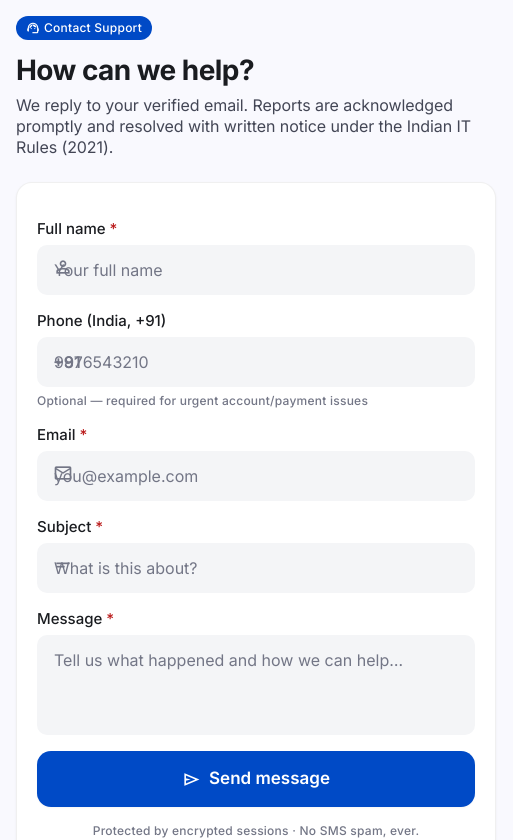
Scenario: T4 — required-field validation › shows errors for missing name, email, subject, message
The width and height of the screenshot is (513, 840).
Click the button "Send message" at (256, 779), box 37,751 -> 475,807
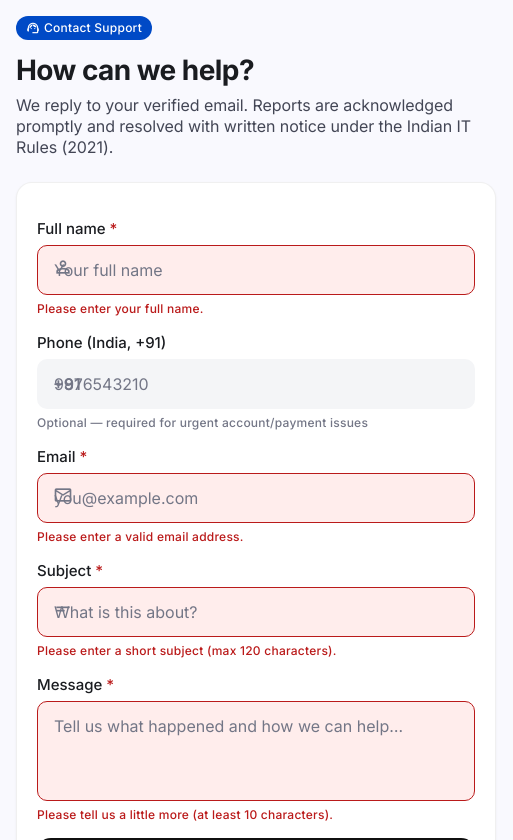
Expected: the text "Please enter your full name." is shown, 37,301 -> 204,316
Expected: the text "Please enter a valid email address." is shown, 37,529 -> 244,544
Expected: the text "Please enter a short subject (max 120 characters)." is shown, 37,643 -> 337,658
